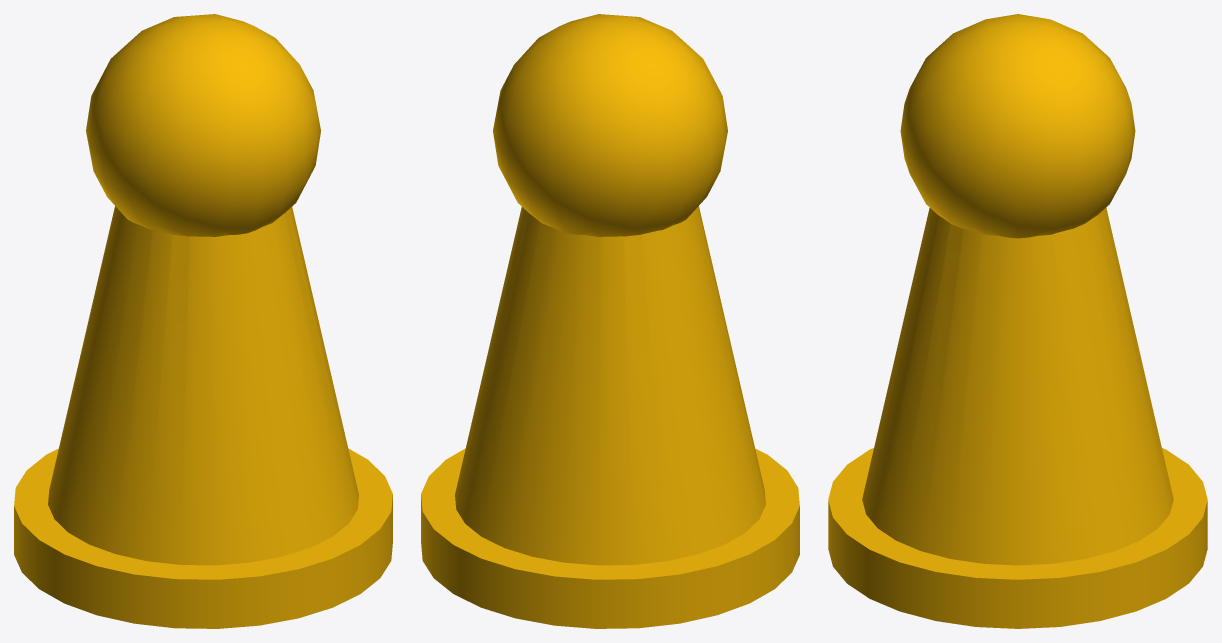
The model's file is ruhm_marker_gelb.glb.
3 renders of one model, left to right at view 1: azimuth 30°, elevation 25°; view 2: azimuth 150°, elevation 25°; view 3: azimuth 270°, elevation 25°, orthographic.
Parts seen in each view (by area): view 1: ruhm_marker_gelb; view 2: ruhm_marker_gelb; view 3: ruhm_marker_gelb.
Boxes of the visible parts, x1,y1,x2,y2 form: ruhm_marker_gelb: (14, 14, 392, 628); ruhm_marker_gelb: (421, 14, 799, 628); ruhm_marker_gelb: (828, 14, 1207, 628).
Size of the model in its own units: 8.4 by 12.8 by 8.4.
